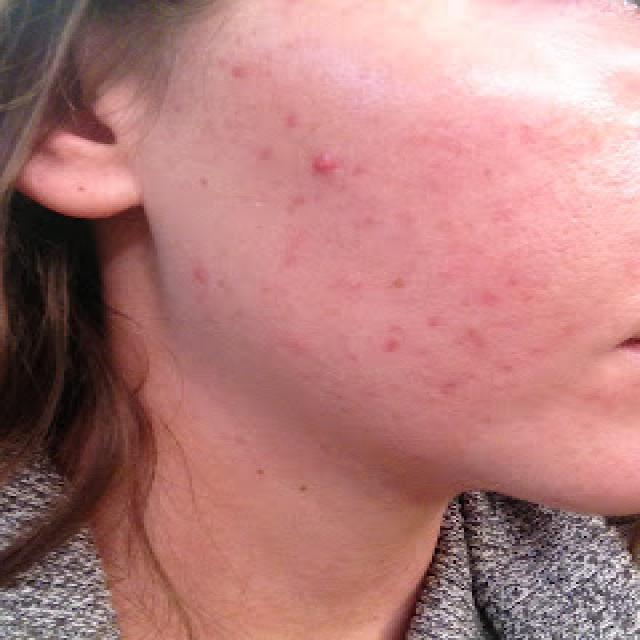acne: (147, 0, 611, 510)
